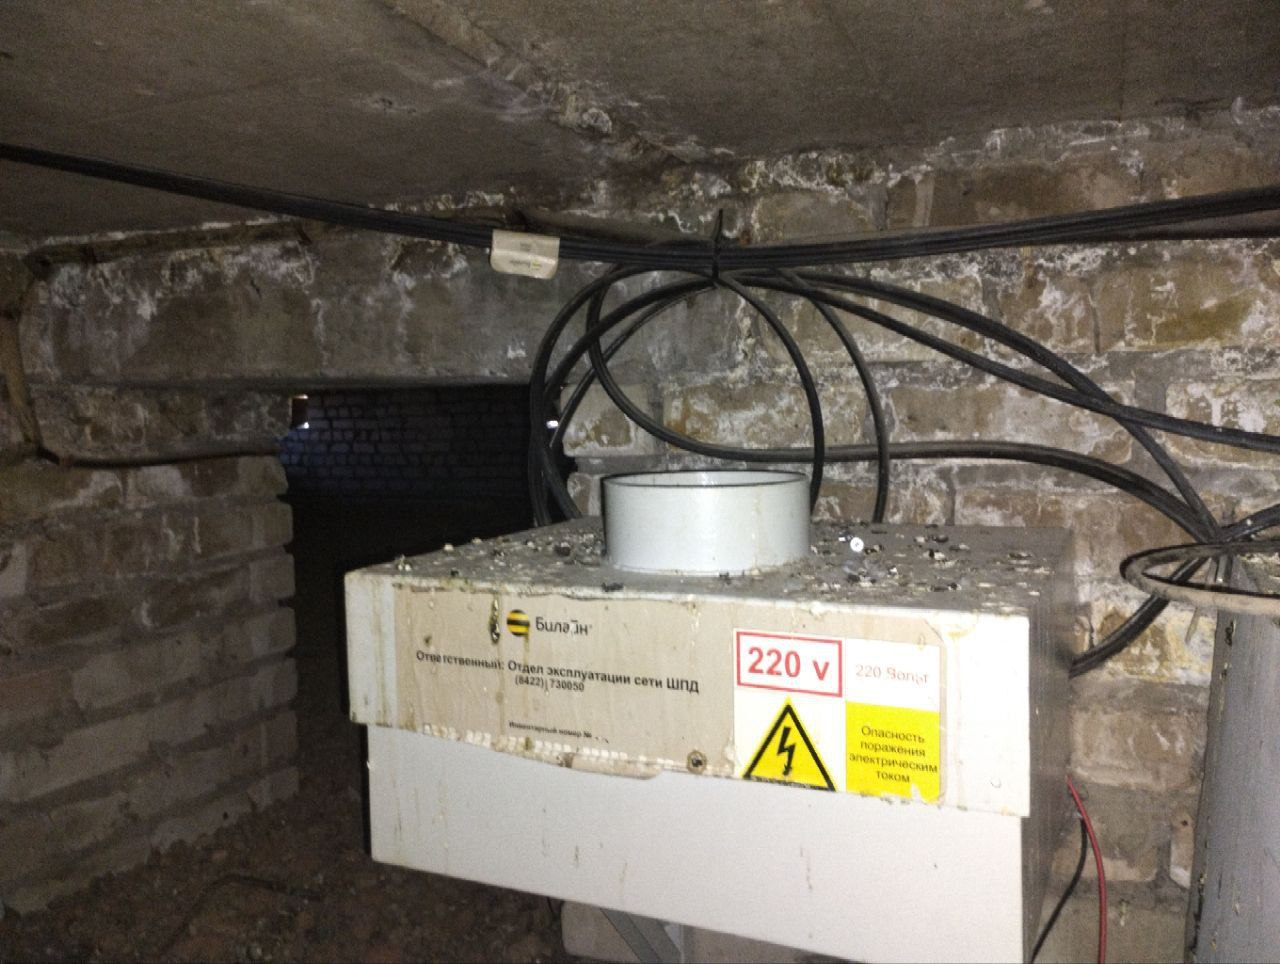shta-ps: (332, 447, 1095, 952)
